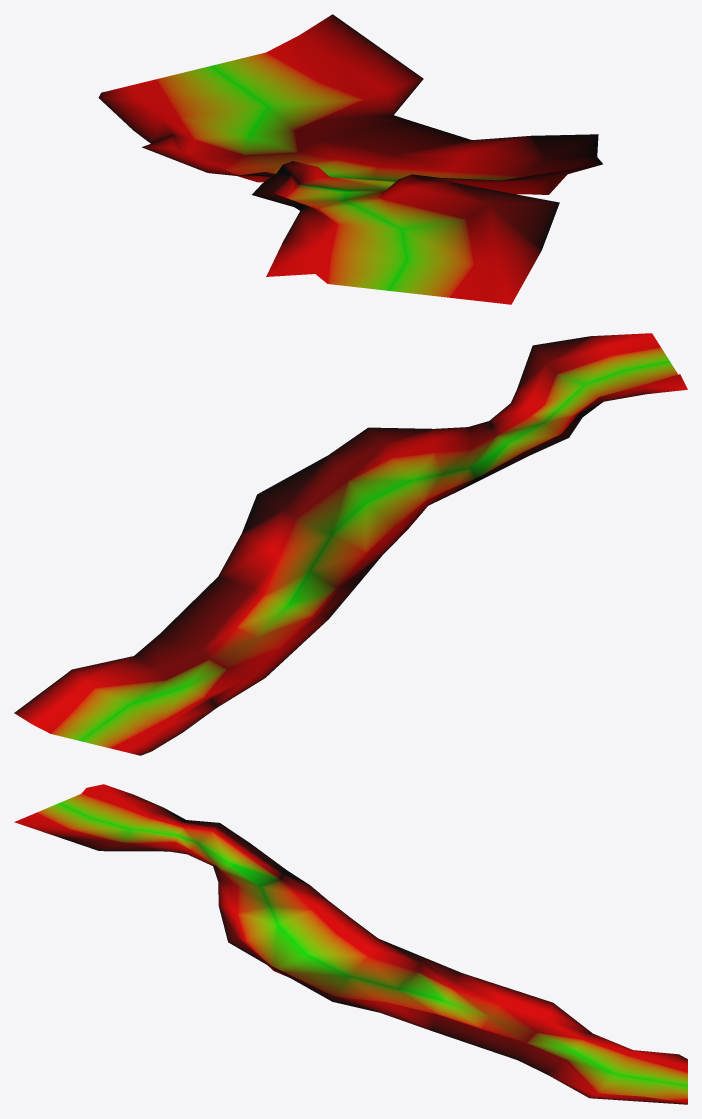
File: Section_WayBend45AngleOutTransition01_Mountains_Terrain.fbx
3 views of the same model, one above another, from view 1: azimuth 30°, elevation 25°; view 2: azimuth 150°, elevation 25°; view 3: azimuth 270°, elevation 25° (orthographic). The views are drawn at different scales.
Parts seen in each view (by area): view 1: Section_WayBend45AngleOutTransition01_Mountains_Terrain; view 2: Section_WayBend45AngleOutTransition01_Mountains_Terrain; view 3: Section_WayBend45AngleOutTransition01_Mountains_Terrain.
Part boxes in pixels (<box>): Section_WayBend45AngleOutTransition01_Mountains_Terrain: <box>98,14,602,304</box>; Section_WayBend45AngleOutTransition01_Mountains_Terrain: <box>14,333,687,755</box>; Section_WayBend45AngleOutTransition01_Mountains_Terrain: <box>14,784,687,1104</box>.
Size of the model in its own units: 2957 by 1535 by 5304.
